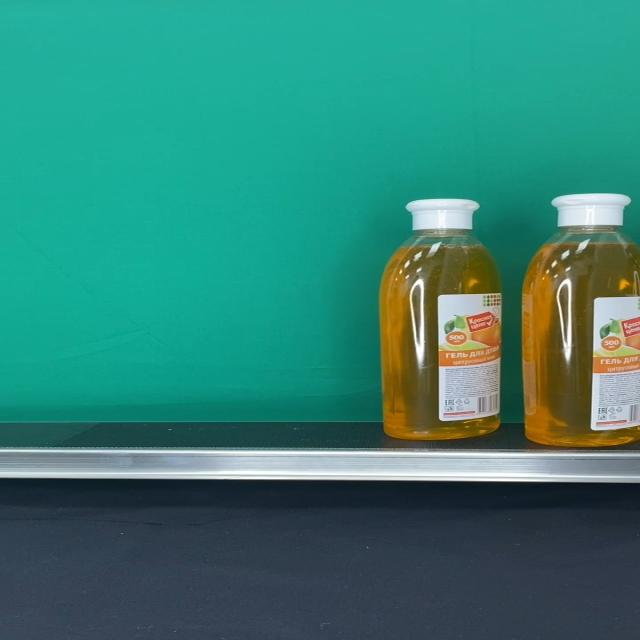Bottle: (380, 198, 502, 440), (524, 194, 640, 447)
Cap: (551, 194, 630, 227), (405, 199, 480, 229)
